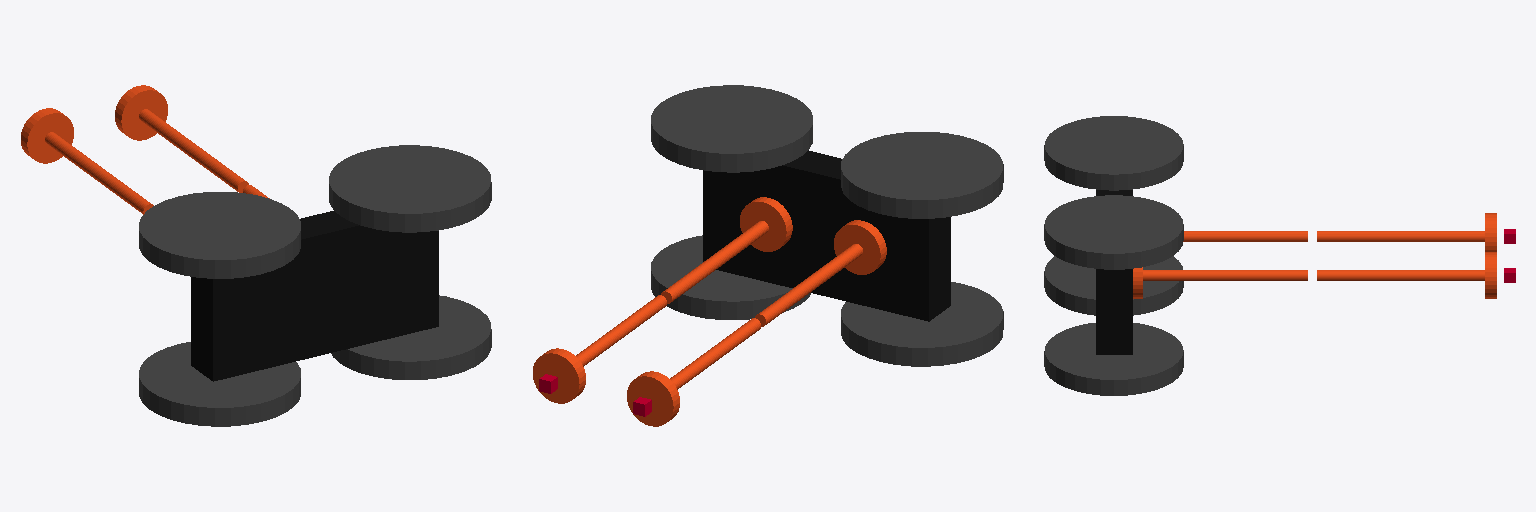
robot.urdf — rover:
<?xml version='1.0' encoding='utf-8'?>
<robot name="rover">

	<material name="red">
	<color rgba="0.8 0.0 0.2 1.0" />
	</material>

	<material name="orange">
	<color rgba="0.945 0.35 0.133 1.0" />
	</material>

	<link name="body_rover0">
		<collision group="default">
        	<origin rpy="0 0 0" xyz="0 0 0" />
        	<geometry>
           	<box size="0.960 .160 .490" />
        	</geometry>
      		</collision>
		<inertial>
		<mass value="40" />
  		<inertia ixx="3.29" ixy="0" ixz="0" iyy="3.16" iyz="0" izz="6.27" />
		</inertial>
  		<visual>
          	<origin rpy="0 0 0" xyz="0 0 0" />
          	<geometry>
            	<box size="0.960 .160 .490" />
          	</geometry>
			<material name="darkgray">
    			<color rgba="0.1 0.1 0.1 1.0"/>
  			</material>
  		</visual>
  	</link>

	  <link name="arm0_base_rover0">
  <visual>
  	<origin rpy="0 0 0" xyz="0 0 -.1875" />
  	<geometry>
  	  <cylinder radius=".025" length=".375" />
  	 </geometry>
	<material name="orange">
	<color rgba="0.945 0.35 0.133 1.0" />
	</material>
  </visual>
  <inertial>
     <mass value=".01" />
     <inertia ixx=".01" ixy="0" ixz="0" iyy=".001" iyz="0" izz=".01" />
  </inertial>
  <collision>
    	<origin rpy="0 0 0" xyz="0 0 -.1875" />
  	<geometry>
  	  <cylinder radius=".025" length=".375" />
  	 </geometry>
  </collision>
  </link>

  <link name="arm0_twist_rover0">
  <visual>
  	<origin rpy="0 0 0" xyz="0 0 -.55" />
  	<geometry>
  	  <cylinder radius=".025" length=".375" />
  	 </geometry>
	<material name="orange">
	<color rgba="0.945 0.35 0.133 1.0" />
	</material>
  </visual>
  <inertial>
     <mass value=".01" />
     <inertia ixx=".01" ixy="0" ixz="0" iyy=".001" iyz="0" izz=".01" />
  </inertial>
  <collision>
    	<origin rpy="0 0 0" xyz="0 0 -.55" />
  	<geometry>
  	  <cylinder radius=".025" length=".375" />
  	 </geometry>
  </collision>
  </link>

  <link name="arm0_extension_rover0">
  <visual>
  	<origin rpy="0 0 0" xyz="0 0 0" />
  	<geometry>
  	  <cylinder radius=".025" length=".75" />
  	 </geometry>
	<material name="orange">
	<color rgba="0.945 0.35 0.133 1.0" />
	</material>
  </visual>
  <inertial>
     <mass value=".01" />
     <inertia ixx=".01" ixy="0" ixz="0" iyy=".001" iyz="0" izz=".01" />
  </inertial>
  <collision>
    	<origin rpy="0 0 0" xyz="0 0 0" />
  	<geometry>
  	  <cylinder radius=".025" length=".75" />
  	 </geometry>
  </collision>
  </link>

  <link name="arm0_base_turret_rover0">
  <visual>
  <origin rpy="0 0 0" xyz="0 0 0" />
  	<geometry>
  	  <cylinder radius=".1" length=".05" />
  	 </geometry>
	<material name="orange">
	<color rgba="0.945 0.35 0.133 1.0" />
	</material>
  </visual>
  <inertial>
     <mass value=".01" />
     <inertia ixx=".01" ixy="0" ixz="0" iyy=".001" iyz="0" izz=".01" />
  </inertial>
  <collision>
    	<origin rpy="0 0 0" xyz="0 0 0" />
  	<geometry>
  	  <cylinder radius=".1" length=".05" />
  	 </geometry>
  </collision>
  </link>

  <link name="arm0_extension_turret_rover0">
  <visual>
  <origin rpy="0 0 0" xyz="0 0 0" />
  	<geometry>
  	  <cylinder radius=".1" length=".05" />
  	 </geometry>
	<material name="orange">
	<color rgba="0.945 0.35 0.133 1.0" />
	</material>
  </visual>
  <inertial>
     <mass value=".01" />
     <inertia ixx=".01" ixy="0" ixz="0" iyy=".001" iyz="0" izz=".01" />
  </inertial>
  <collision>
    	<origin rpy="0 0 0" xyz="0 0 0" />
  	<geometry>
  	  <cylinder radius=".1" length=".05" />
  	 </geometry>
  </collision>
  </link>

  <link name="arm0_block_rover0">
  <visual>
  <origin rpy="0 0 0" xyz="0 0 0" />
  	<geometry>
  	  <box size=".05 .05 .05" />
  	 </geometry>
     <material name="red" />
  </visual>
  <inertial>
     <mass value=".01" />
     <inertia ixx=".01" ixy="0" ixz="0" iyy=".001" iyz="0" izz=".01" />
  </inertial>
  <collision>
    	<origin rpy="0 0 0" xyz="0 0 0" />
  	<geometry>
  	    <box size=".05 .05 .05" />
  	 </geometry>
  </collision>
  </link>

  <joint name="body_to_arm0_turret_rover0" type="continuous">
  	<parent link="body_rover0" />
  	<child link="arm0_base_turret_rover0" />
  	<axis xyz="0 0 1" />
  	<origin xyz=".2 .1 0" rpy="1.5707 0 0" />
  </joint>

  <joint name="arm0_base_to_turret_rover0" type="continuous">
  	<parent link="arm0_base_turret_rover0" />
  	<child link="arm0_base_rover0" />
  	<axis xyz="0 1 0" />
  	<origin xyz="0 0 0" rpy="0 0 0" />
  </joint>
  
  <joint name="arm0_base_to_twist_rover0" type="continuous">
  	<parent link="arm0_base_rover0" />
  	<child link="arm0_twist_rover0" />
  	<axis xyz="0 0 1" />
  	<origin xyz="0 0 0" rpy="0 0 0" />
  </joint>

  <joint name="arm0_twist_to_extension_rover0" type="prismatic">
  	<parent link="arm0_twist_rover0" />
  	<child link="arm0_extension_rover0" />
  	<origin xyz="0 0 -1.15" rpy="0 0 0" />
    <limit effort="1000" lower="-0.707" upper="0.707" velocity="300" />
  </joint>
  
  <joint name="arm0_extension_to_turret_rover0" type="continuous">
  	<parent link="arm0_extension_rover0" />
  	<child link="arm0_extension_turret_rover0" />
  	<axis xyz="0 1 0" />
  	<origin xyz="0 0 -.375" rpy="0 0 0" />
  </joint>
  
  <joint name="arm0_extension_turret_to_block_rover0" type="continuous">
  	<parent link="arm0_extension_turret_rover0" />
  	<child link="arm0_block_rover0" />
  	<axis xyz="0 0 1" />
  	<origin xyz="0 0 -.08" rpy="0 0 0" />
  </joint>

	  <link name="arm1_base_rover0">
  <visual>
  	<origin rpy="0 0 0" xyz="0 0 -.1875" />
  	<geometry>
  	  <cylinder radius=".025" length=".375" />
  	 </geometry>
	<material name="orange">
	<color rgba="0.945 0.35 0.133 1.0" />
	</material>
  </visual>
  <inertial>
     <mass value=".01" />
     <inertia ixx=".01" ixy="0" ixz="0" iyy=".001" iyz="0" izz=".01" />
  </inertial>
  <collision>
    	<origin rpy="0 0 0" xyz="0 0 -.1875" />
  	<geometry>
  	  <cylinder radius=".025" length=".375" />
  	 </geometry>
  </collision>
  </link>

  <link name="arm1_twist_rover0">
  <visual>
  	<origin rpy="0 0 0" xyz="0 0 -.55" />
  	<geometry>
  	  <cylinder radius=".025" length=".375" />
  	 </geometry>
	<material name="orange">
	<color rgba="0.945 0.35 0.133 1.0" />
	</material>
  </visual>
  <inertial>
     <mass value=".01" />
     <inertia ixx=".01" ixy="0" ixz="0" iyy=".001" iyz="0" izz=".01" />
  </inertial>
  <collision>
    	<origin rpy="0 0 0" xyz="0 0 -.55" />
  	<geometry>
  	  <cylinder radius=".025" length=".375" />
  	 </geometry>
  </collision>
  </link>

  <link name="arm1_extension_rover0">
  <visual>
  	<origin rpy="0 0 0" xyz="0 0 0" />
  	<geometry>
  	  <cylinder radius=".025" length=".75" />
  	 </geometry>
	<material name="orange">
	<color rgba="0.945 0.35 0.133 1.0" />
	</material>
  </visual>
  <inertial>
     <mass value=".01" />
     <inertia ixx=".01" ixy="0" ixz="0" iyy=".001" iyz="0" izz=".01" />
  </inertial>
  <collision>
    	<origin rpy="0 0 0" xyz="0 0 0" />
  	<geometry>
  	  <cylinder radius=".025" length=".75" />
  	 </geometry>
  </collision>
  </link>

  <link name="arm1_base_turret_rover0">
  <visual>
  <origin rpy="0 0 0" xyz="0 0 0" />
  	<geometry>
  	  <cylinder radius=".1" length=".05" />
  	 </geometry>
	<material name="orange">
	<color rgba="0.945 0.35 0.133 1.0" />
	</material>
  </visual>
  <inertial>
     <mass value=".01" />
     <inertia ixx=".01" ixy="0" ixz="0" iyy=".001" iyz="0" izz=".01" />
  </inertial>
  <collision>
    	<origin rpy="0 0 0" xyz="0 0 0" />
  	<geometry>
  	  <cylinder radius=".1" length=".05" />
  	 </geometry>
  </collision>
  </link>

  <link name="arm1_extension_turret_rover0">
  <visual>
  <origin rpy="0 0 0" xyz="0 0 0" />
  	<geometry>
  	  <cylinder radius=".1" length=".05" />
  	 </geometry>
	<material name="orange">
	<color rgba="0.945 0.35 0.133 1.0" />
	</material>
  </visual>
  <inertial>
     <mass value=".01" />
     <inertia ixx=".01" ixy="0" ixz="0" iyy=".001" iyz="0" izz=".01" />
  </inertial>
  <collision>
    	<origin rpy="0 0 0" xyz="0 0 0" />
  	<geometry>
  	  <cylinder radius=".1" length=".05" />
  	 </geometry>
  </collision>
  </link>

  <link name="arm1_block_rover0">
  <visual>
  <origin rpy="0 0 0" xyz="0 0 0" />
  	<geometry>
  	  <box size=".05 .05 .05" />
  	 </geometry>
     <material name="red" />
  </visual>
  <inertial>
     <mass value=".01" />
     <inertia ixx=".01" ixy="0" ixz="0" iyy=".001" iyz="0" izz=".01" />
  </inertial>
  <collision>
    	<origin rpy="0 0 0" xyz="0 0 0" />
  	<geometry>
  	    <box size=".05 .05 .05" />
  	 </geometry>
  </collision>
  </link>

  <joint name="body_to_arm1_turret_rover0" type="continuous">
  	<parent link="body_rover0" />
  	<child link="arm1_base_turret_rover0" />
  	<axis xyz="0 0 1" />
  	<origin xyz="-.2 .1 0" rpy="1.5707 0 0" />
  </joint>

  <joint name="arm1_base_to_turret_rover0" type="continuous">
  	<parent link="arm1_base_turret_rover0" />
  	<child link="arm1_base_rover0" />
  	<axis xyz="0 1 0" />
  	<origin xyz="0 0 0" rpy="0 0 0" />
  </joint>
  
  <joint name="arm1_base_to_twist_rover0" type="continuous">
  	<parent link="arm1_base_rover0" />
  	<child link="arm1_twist_rover0" />
  	<axis xyz="0 0 1" />
  	<origin xyz="0 0 0" rpy="0 0 0" />
  </joint>

  <joint name="arm1_twist_to_extension_rover0" type="prismatic">
  	<parent link="arm1_twist_rover0" />
  	<child link="arm1_extension_rover0" />
  	<origin xyz="0 0 -1.15" rpy="0 0 0" />
    <limit effort="1000" lower="-0.707" upper="0.707" velocity="300" />
  </joint>
  
  <joint name="arm1_extension_to_turret_rover0" type="continuous">
  	<parent link="arm1_extension_rover0" />
  	<child link="arm1_extension_turret_rover0" />
  	<axis xyz="0 1 0" />
  	<origin xyz="0 0 -.375" rpy="0 0 0" />
  </joint>
  
  <joint name="arm1_extension_turret_to_block_rover0" type="continuous">
  	<parent link="arm1_extension_turret_rover0" />
  	<child link="arm1_block_rover0" />
  	<axis xyz="0 0 1" />
  	<origin xyz="0 0 -.08" rpy="0 0 0" />
  </joint>


	<joint name="front_right_joint_rover0" type="continuous">
    	<parent link="body_rover0" />
      	<child link="front_right_wheel_rover0" />
      	<origin xyz=".404 0 .3" rpy="0 0 0" />
      	<axis xyz="0 0 1" />
	</joint>
	<link name="front_right_wheel_rover0">
		<collision group="default">
        	<origin rpy="0 0 0" xyz="0 0 0" />
        	<geometry>
           	<cylinder length="0.076" radius="0.3" />
        	</geometry>
      		</collision>
		<visual>
          	<origin rpy="0 0 0" xyz="0 0 0" />
          	<geometry>
            	<cylinder length="0.076" radius="0.3" />
          	</geometry>
  			<material name="silver">
    			<color rgba="0.3 0.3 0.3 1.0"/>
  			</material>
		</visual>
		<inertial>
      		<mass value="2" />
      		<inertia ixx="0.02" ixy="0.0" ixz="0.0" iyy="0.02" iyz="0.0" izz="0.02" />
    		</inertial>
	</link>

	<joint name="front_left_joint_rover0" type="continuous">
    	<parent link="body_rover0" />
      	<child link="front_left_wheel_rover0" />
      	<origin xyz=".404 0 -.3" rpy="0 0 0" />
      	<axis xyz="0 0 1" />
	</joint>
	<link name="front_left_wheel_rover0">
		<collision group="default">
        	<origin rpy="0 0 0" xyz="0 0 0" />
        	<geometry>
           	<cylinder length="0.076" radius="0.3" />
        	</geometry>
      		</collision>
		<visual>
          	<origin rpy="0 0 0" xyz="0 0 0" />
          	<geometry>
            	<cylinder length="0.076" radius="0.3" />
          	</geometry>
  			<material name="silver">
    			<color rgba="0.3 0.3 0.3 1.0"/>
  			</material>
		</visual>
		<inertial>
      		<mass value="10" />
      		<inertia ixx="0.02" ixy="0.0" ixz="0.0" iyy="0.02" iyz="0.0" izz="0.02" />
    		</inertial>
	</link>

	<joint name="back_right_joint_rover0" type="continuous">
    	<parent link="body_rover0" />
      	<child link="back_right_wheel_rover0" />
      	<origin xyz="-.404 0 .3" rpy="0 0 0" />
      	<axis xyz="0 0 1" />
	</joint>
	<link name="back_right_wheel_rover0">
		<collision group="default">
        	<origin rpy="0 0 0" xyz="0 0 0" />
        	<geometry>
           	<cylinder length="0.076" radius="0.3" />
        	</geometry>
      		</collision>
		<visual>
          	<origin rpy="0 0 0" xyz="0 0 0" />
          	<geometry>
            	<cylinder length="0.076" radius="0.3" />
          	</geometry>
  			<material name="silver">
    			<color rgba="0.3 0.3 0.3 1.0"/>
  			</material>
		</visual>
		<inertial>
      		<mass value="2" />
      		<inertia ixx="0.02" ixy="0.0" ixz="0.0" iyy="0.02" iyz="0.0" izz="0.02" />
    		</inertial>
	</link>

	<joint name="back_left_joint_rover0" type="continuous">
    	<parent link="body_rover0" />
      	<child link="back_left_wheel_rover0" />
      	<origin xyz="-.404 0 -.3" rpy="0 0 0" />
      	<axis xyz="0 0 1" />
	</joint>
	<link name="back_left_wheel_rover0">
		<collision group="default">
        	<origin rpy="0 0 0" xyz="0 0 0" />
        	<geometry>
           	<cylinder length="0.076" radius="0.3" />
        	</geometry>
      		</collision>
		<visual>
          	<origin rpy="0 0 0" xyz="0 0 0" />
          	<geometry>
            	<cylinder length="0.076" radius="0.3" />
          	</geometry>
  			<material name="silver">
    			<color rgba="0.3 0.3 0.3 1.0"/>
  			</material>
		</visual>
		<inertial>
      		<mass value="2" />
      		<inertia ixx="0.02" ixy="0.0" ixz="0.0" iyy="0.02" iyz="0.0" izz="0.02" />
    		</inertial>
	</link>

  	<joint name="probe_joint_rover0" type="prismatic">
		<parent link="body_rover0" />
		<child link="probe_rover0" />
		<origin xyz="0 0 0" rpy="-1.5707 0 0" />
		<limit effort="1000" lower="-0.707" upper="0.707" velocity="300" />
  	</joint>

	<link name="probe_rover0">
		<collision group="default">
        	<origin rpy="0 0 0" xyz="0 0 0" />
        	<geometry>
           	<cylinder length=".4" radius="0.05" />
        	</geometry>
      		</collision>
		<visual>
          	<origin rpy="0 0 0" xyz="0 0 0" />
          	<geometry>
            	<cylinder length=".15" radius="0.05" />
          	</geometry>
          	<material name="black">
              	<color rgba="0 0 0 1" />
          	</material>
		</visual>
		<inertial>
      		<mass value="2" />
      		<inertia ixx="0.02" ixy="0.0" ixz="0.0" iyy="0.02" iyz="0.0" izz="0.02" />
    		</inertial>
	</link>
</robot>

--- Facts derived from the render (not from the file) ---
3 views of the same robot in one strip: view 1: azimuth 30°, elevation 25°; view 2: azimuth 150°, elevation 25°; view 3: azimuth 270°, elevation 25° (orthographic).
Model rover with 18 links and 17 joints (14 continuous, 3 prismatic), rooted at body_rover0, posed every joint at zero.
Links seen in each view (by area): view 1: body_rover0, front_right_wheel_rover0, back_right_wheel_rover0, back_left_wheel_rover0, front_left_wheel_rover0, arm1_extension_turret_rover0, arm0_extension_turret_rover0, arm0_extension_rover0, arm1_extension_rover0; view 2: body_rover0, back_right_wheel_rover0, front_right_wheel_rover0, back_left_wheel_rover0, front_left_wheel_rover0, arm0_extension_turret_rover0, arm1_extension_turret_rover0, arm1_base_turret_rover0, arm0_base_turret_rover0, arm0_extension_rover0, arm1_extension_rover0, arm0_twist_rover0 (+3 smaller); view 3: front_right_wheel_rover0, back_right_wheel_rover0, front_left_wheel_rover0, back_left_wheel_rover0, body_rover0, arm0_extension_rover0, arm1_extension_rover0, arm0_twist_rover0, arm1_twist_rover0, arm0_base_rover0, arm0_extension_turret_rover0.
Link boxes in pixels (bbox=[...]): body_rover0: bbox=[191, 211, 438, 381]; front_right_wheel_rover0: bbox=[329, 145, 491, 232]; back_right_wheel_rover0: bbox=[139, 192, 300, 278]; back_left_wheel_rover0: bbox=[139, 342, 300, 426]; front_left_wheel_rover0: bbox=[331, 295, 491, 379]; arm1_extension_turret_rover0: bbox=[21, 108, 73, 163]; arm0_extension_turret_rover0: bbox=[115, 85, 167, 140]; arm0_extension_rover0: bbox=[139, 109, 248, 192]; arm1_extension_rover0: bbox=[45, 132, 153, 214]; body_rover0: bbox=[703, 150, 950, 321]; back_right_wheel_rover0: bbox=[841, 132, 1003, 218]; front_right_wheel_rover0: bbox=[651, 85, 812, 172]; back_left_wheel_rover0: bbox=[841, 282, 1003, 366]; front_left_wheel_rover0: bbox=[651, 235, 810, 319]; arm0_extension_turret_rover0: bbox=[533, 348, 585, 403]; arm1_extension_turret_rover0: bbox=[627, 371, 679, 426]; arm1_base_turret_rover0: bbox=[834, 220, 886, 274]; arm0_base_turret_rover0: bbox=[740, 197, 792, 251]; arm0_extension_rover0: bbox=[576, 295, 666, 366]; arm1_extension_rover0: bbox=[670, 318, 760, 389]; arm0_twist_rover0: bbox=[661, 254, 722, 303]; front_right_wheel_rover0: bbox=[1044, 195, 1183, 269]; back_right_wheel_rover0: bbox=[1044, 116, 1183, 190]; front_left_wheel_rover0: bbox=[1044, 323, 1183, 395]; back_left_wheel_rover0: bbox=[1044, 256, 1183, 315]; body_rover0: bbox=[1096, 190, 1132, 354]; arm0_extension_rover0: bbox=[1317, 270, 1484, 280]; arm1_extension_rover0: bbox=[1317, 231, 1484, 241]; arm0_twist_rover0: bbox=[1221, 270, 1307, 280]; arm1_twist_rover0: bbox=[1221, 231, 1307, 241]; arm0_base_rover0: bbox=[1143, 270, 1223, 280]; arm0_extension_turret_rover0: bbox=[1485, 252, 1496, 298].
Size in the robot's own frame: 1.41 by 2.03 by 0.676 metres.
Geometry: primitives only (box / cylinder / sphere), no mesh files.
